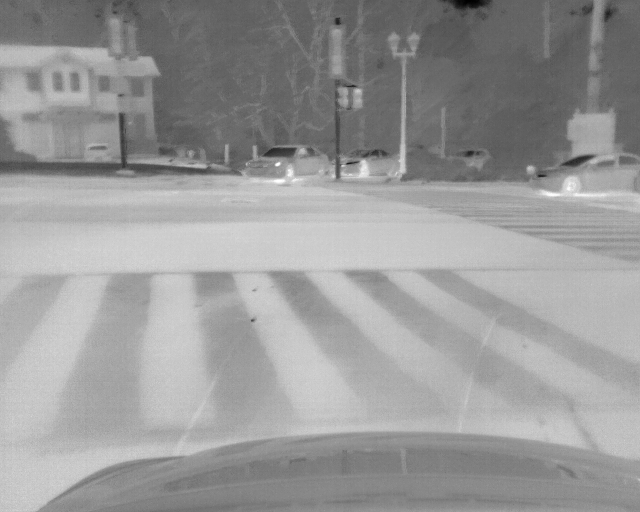car: (525, 149, 640, 197), (245, 144, 329, 183), (332, 147, 398, 179), (445, 147, 491, 170), (82, 142, 110, 162)
